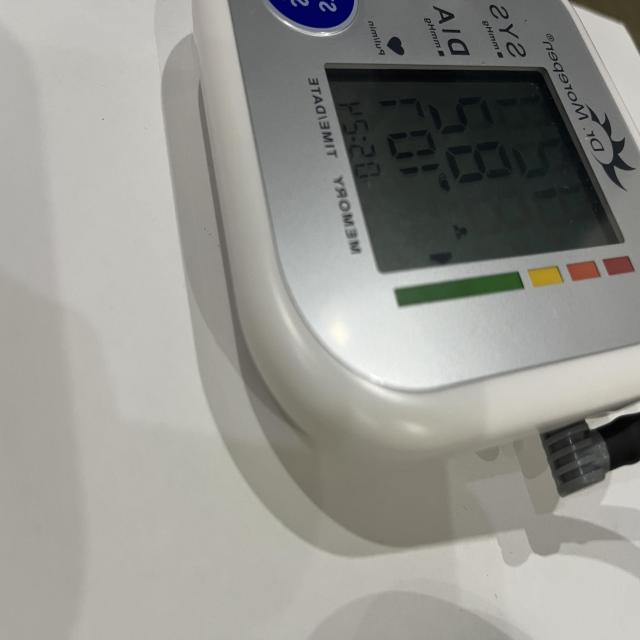bp: (167, 0, 640, 561)
